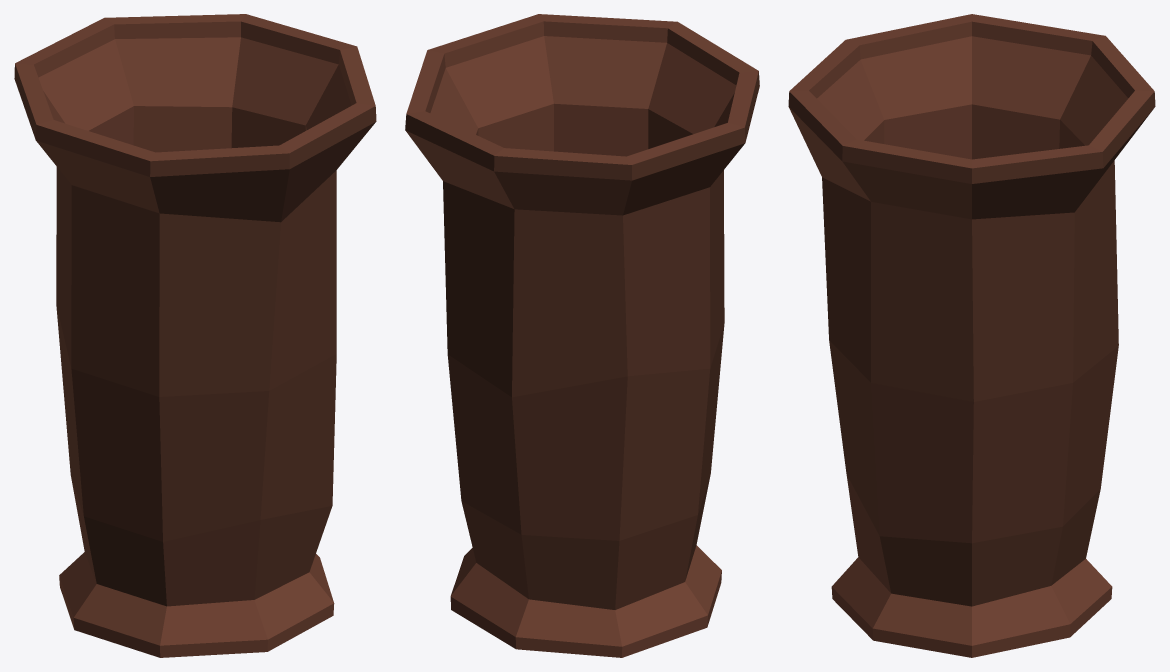
Rendered from Bottle_02.gltf.
3 views of the same model, side by side, from view 1: azimuth 30°, elevation 25°; view 2: azimuth 150°, elevation 25°; view 3: azimuth 270°, elevation 25° (orthographic).
Visible parts, largest first — view 1: vase; view 2: vase; view 3: vase.
Boxes of the visible parts, x1,y1,x2,y2 form: vase: (14,14,376,657); vase: (405,14,759,657); vase: (788,14,1155,657).
Size of the model in its own units: 0.2147 by 0.3308 by 0.2147.
Materials: 1 (1 with a texture image).
